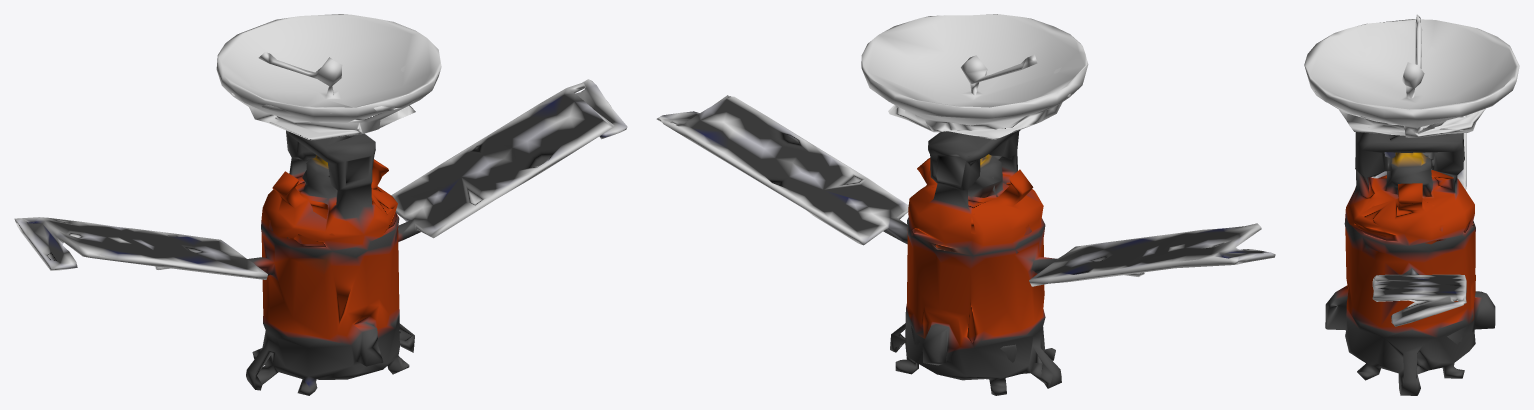
The model's file is gen3d-space-probe-lod0.glb.
The picture shows the model from 3 angles, left to right: view 1: azimuth 30°, elevation 25°; view 2: azimuth 150°, elevation 25°; view 3: azimuth 270°, elevation 25°; orthographic projection. The views are drawn at different scales.
Visible parts, largest first — view 1: part_0; view 2: part_0; view 3: part_0.
Boxes of the visible parts, x1=… form: part_0: x1=14, y1=14, x2=627, y2=395; part_0: x1=656, y1=14, x2=1275, y2=395; part_0: x1=1304, y1=14, x2=1519, y2=395.
Size of the model in its own units: 1.83 by 0.9994 by 0.6179.
